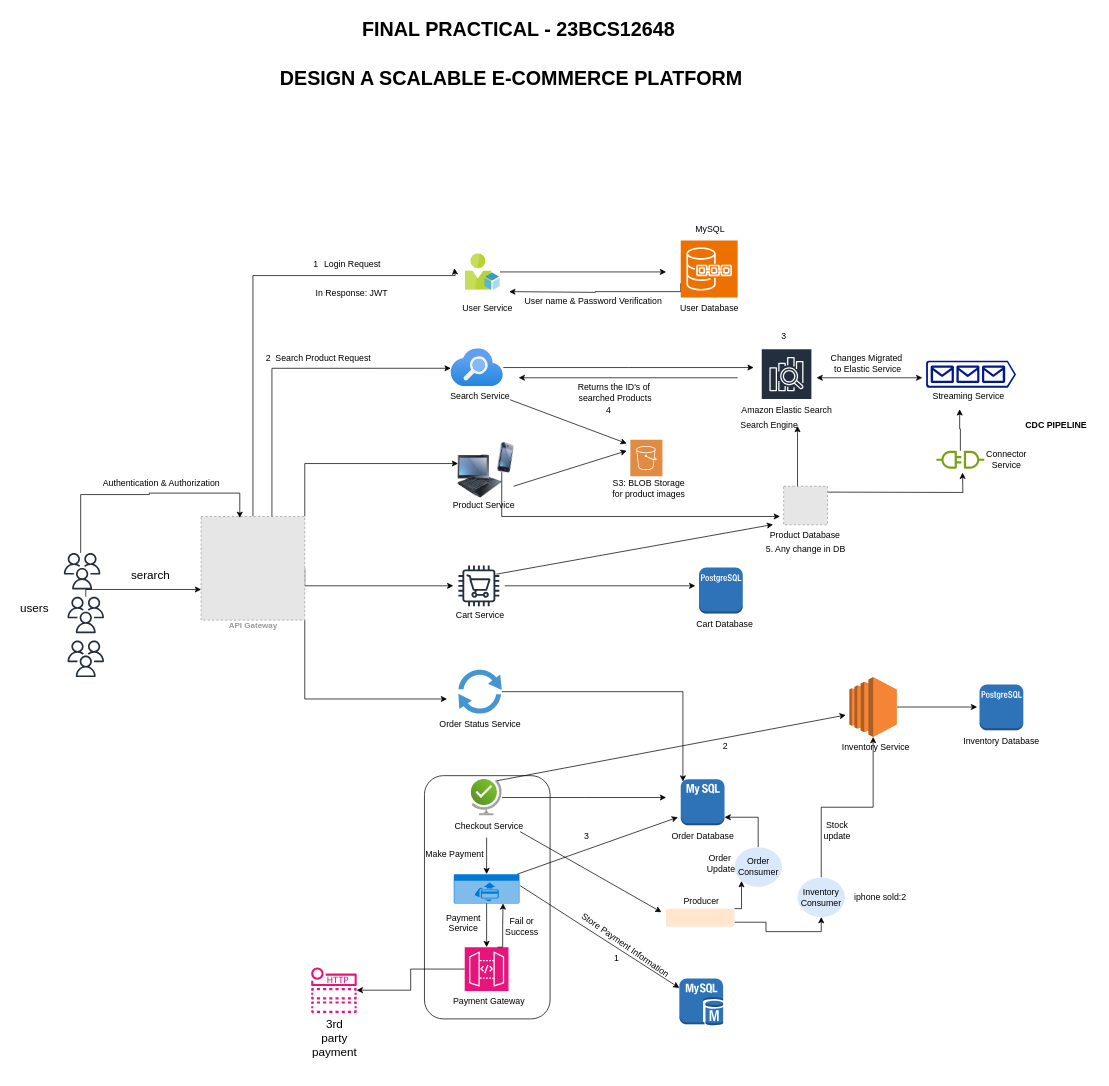
Image size: 1109x1086. Some labels were removed from this diagram. Grey dashed boxes stand in for pictures. The shapes that lost their labels are listed below. From the top down, each one's centre as x and y in pixels, then its label:
At pixel 486 888: "Payment".
At pixel 700 917: "KAFKA".
